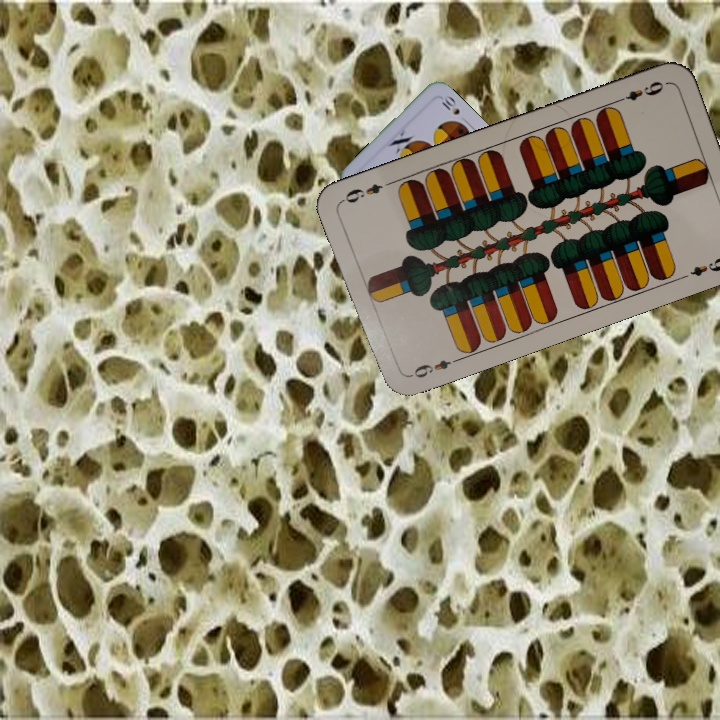E9: (612, 77, 669, 106), (403, 354, 461, 381)
